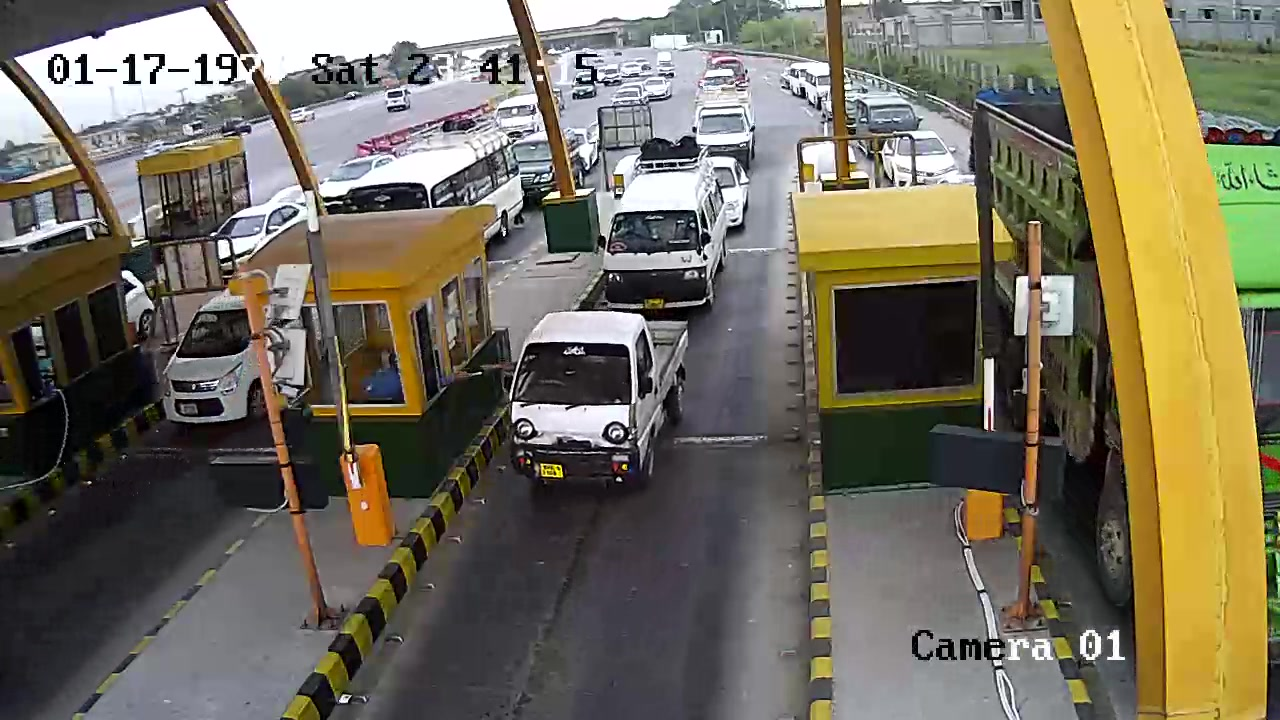F1: (498, 306, 728, 501)
F2: (589, 139, 737, 313)
